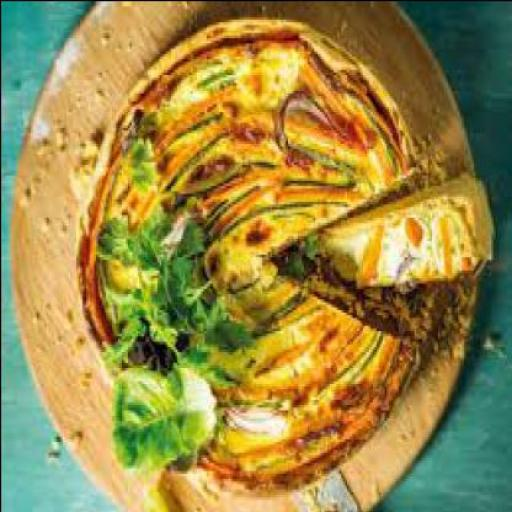biodegradable: (74, 24, 421, 499), (314, 174, 490, 294), (111, 366, 215, 472), (433, 274, 478, 370), (94, 216, 160, 274), (199, 290, 255, 356), (172, 341, 242, 390), (153, 214, 209, 272), (101, 308, 150, 372), (127, 328, 182, 377), (121, 137, 156, 198), (97, 272, 148, 309), (145, 200, 184, 242), (146, 472, 184, 510), (170, 327, 196, 351)
